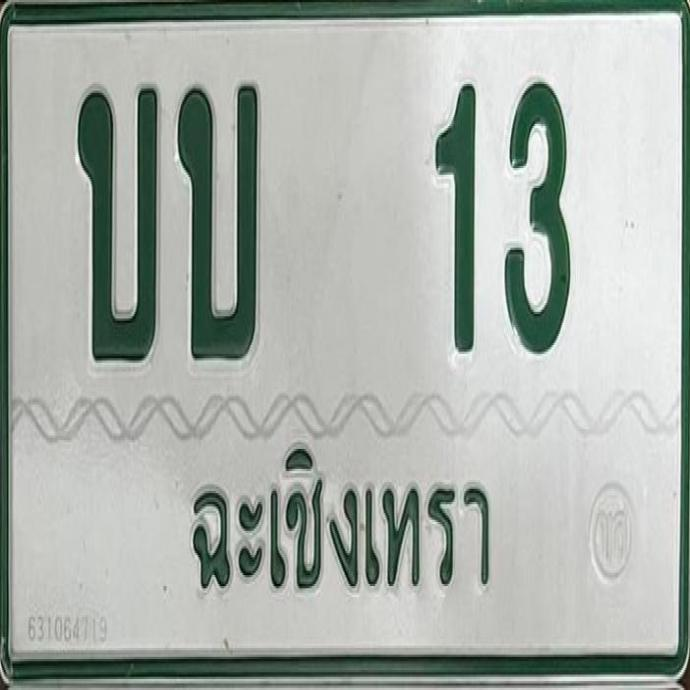1: (433, 77, 476, 353)
3: (502, 74, 570, 354)
A26: (174, 79, 258, 362), (75, 79, 159, 362)
CCO: (173, 423, 505, 622)
